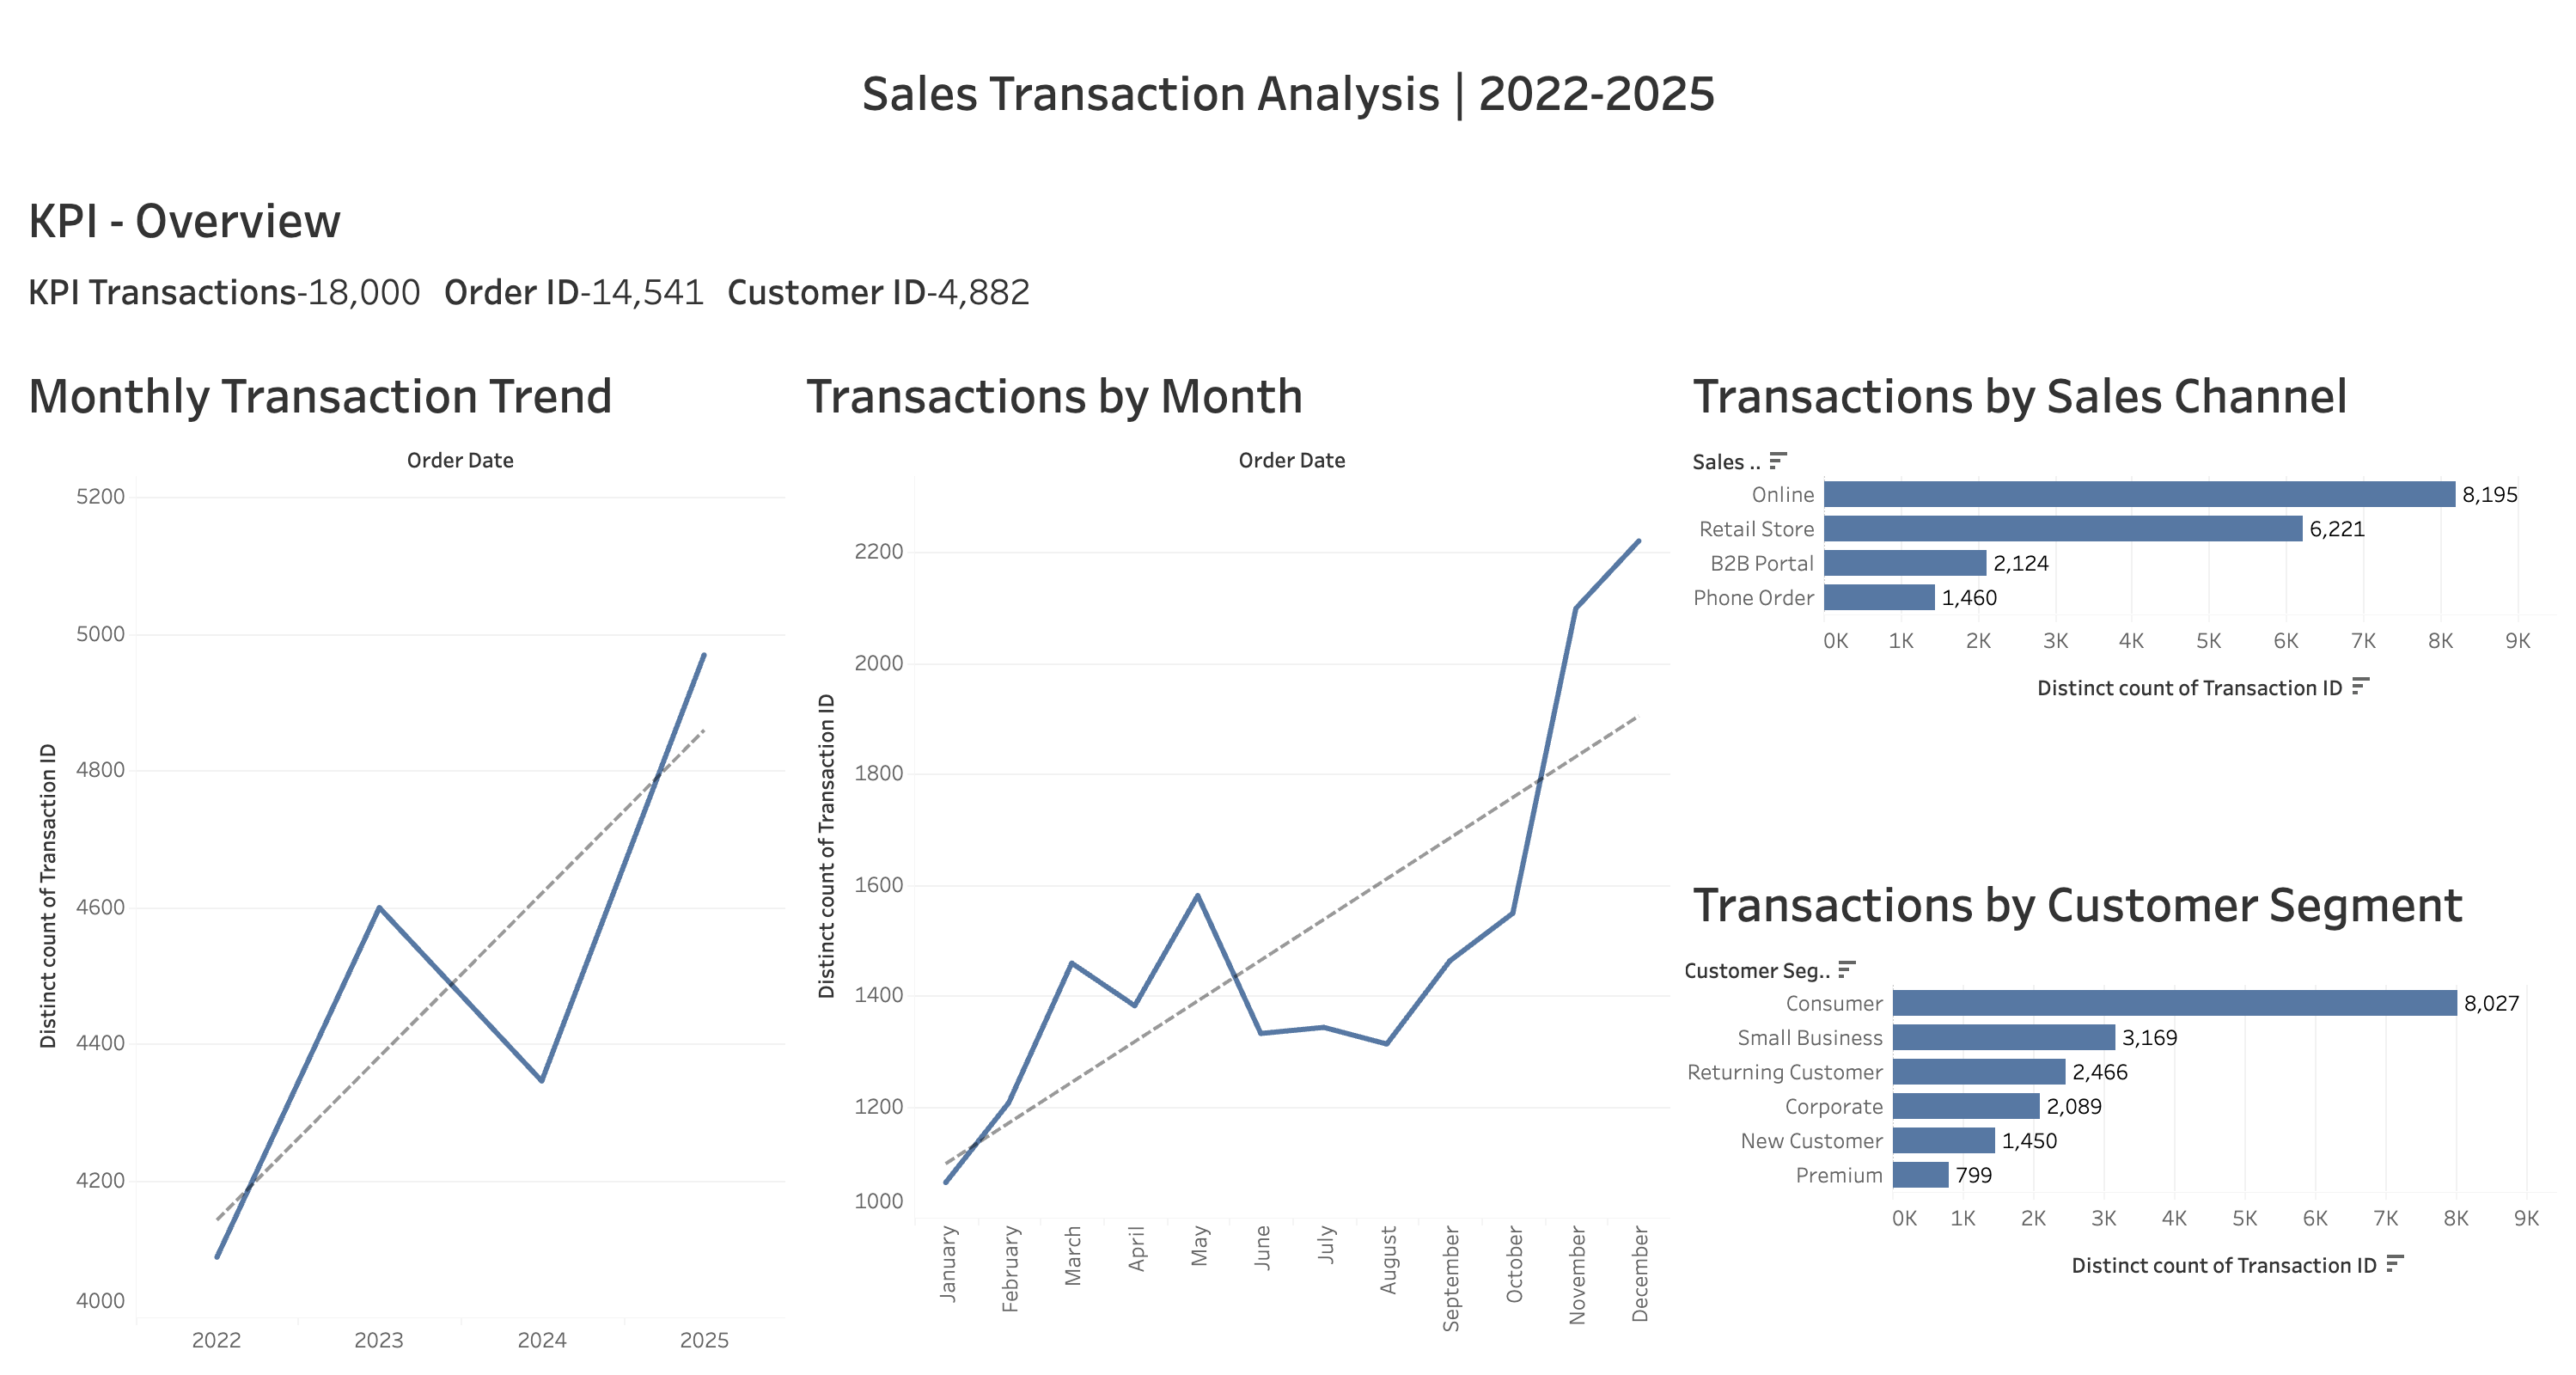

The dashboard page shown, as its layout file describes it:
{"tool":"tableau","page":{"name":"Sales Transaction Overview","canvas":[1500,800],"ordinal":1},"visuals":[{"type":"title","box":[8,8,1484,90]},{"type":"worksheet","title":"KPI - Overview","mark":"Automatic","box":[8,98,1484,102]},{"type":"worksheet","title":"Monthly Transaction Trend","mark":"Automatic","rows":["Transaction_ID"],"cols":["Order_Date"],"box":[8,200,453,592]},{"type":"worksheet","title":"Transactions by Month","mark":"Automatic","rows":["Transaction_ID"],"cols":["Order_Date"],"box":[461,200,515.5,592]},{"type":"worksheet","title":"Transactions by Sales Channel","mark":"Automatic","rows":["Sales_Channel"],"cols":["Transaction_ID"],"box":[976.5,200,515.5,296]},{"type":"worksheet","title":"Transactions by Customer Segment","mark":"Automatic","rows":["Customer_Segment"],"cols":["Transaction_ID"],"box":[976.5,496,515.5,296]}]}

Visuals, with their boxes in screenshot pixels (x1, y1, x2, y2), scaled from the page's 1500x800 canvas onto the 2576x1375 screenshot:
title: rect(14, 14, 2562, 168)
"KPI - Overview" worksheet: rect(14, 168, 2562, 344)
"Monthly Transaction Trend" worksheet: rect(14, 344, 791, 1361)
"Transactions by Month" worksheet: rect(791, 344, 1677, 1361)
"Transactions by Sales Channel" worksheet: rect(1677, 344, 2562, 852)
"Transactions by Customer Segment" worksheet: rect(1677, 852, 2562, 1361)
